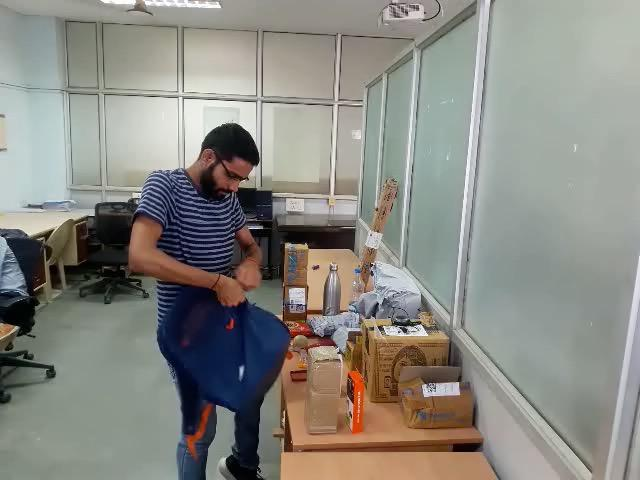shoplifting: (116, 234, 384, 418)
